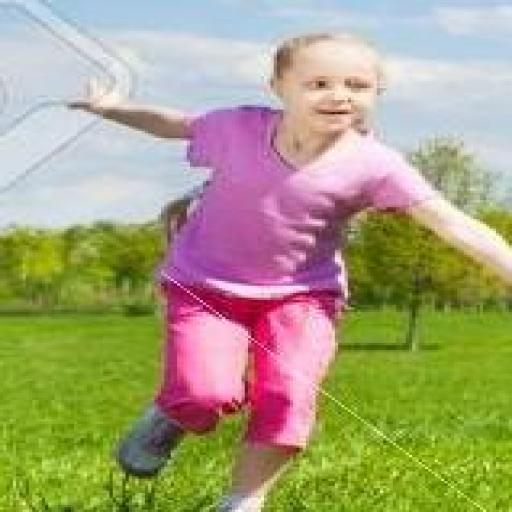person: (71, 34, 511, 511)
